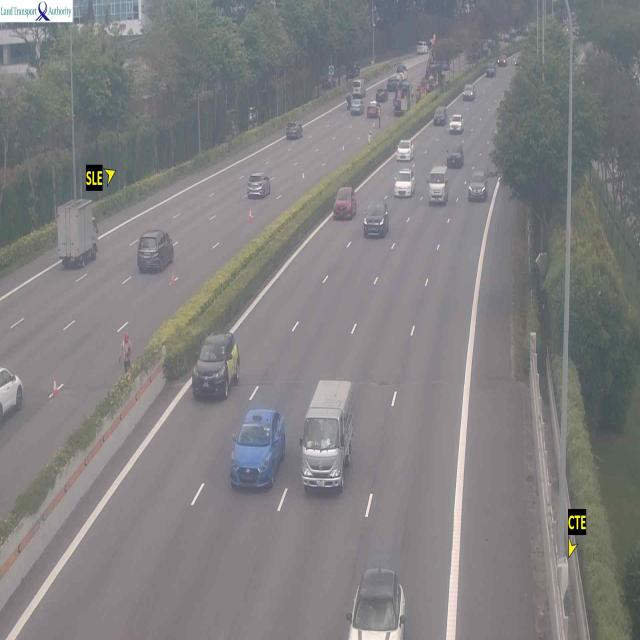bus: (298, 382, 354, 494), (192, 332, 238, 400), (427, 164, 450, 208)
car: (230, 407, 286, 492), (1, 364, 26, 446), (136, 230, 176, 276), (362, 201, 389, 240), (333, 186, 356, 222), (246, 174, 272, 202), (394, 170, 417, 200), (467, 176, 488, 204), (397, 140, 415, 162), (448, 116, 463, 134)
truck: (57, 199, 99, 272)
